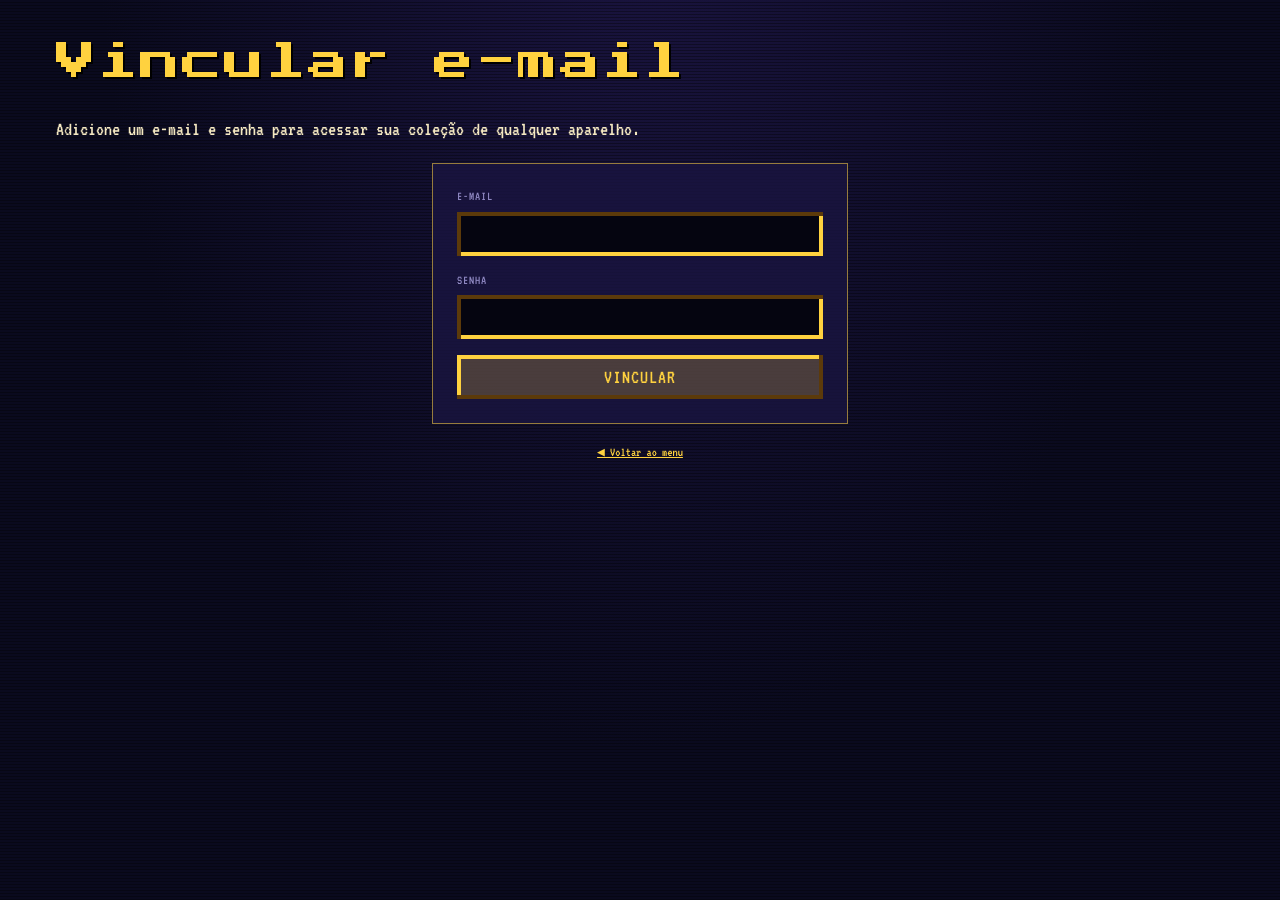
Scenario: LinkEmailForm › links the e-mail immediately when the response is no longer anonymous
Type "player@example.com" into the field labelled "E-mail" at (640, 234), box [457,212,823,256]
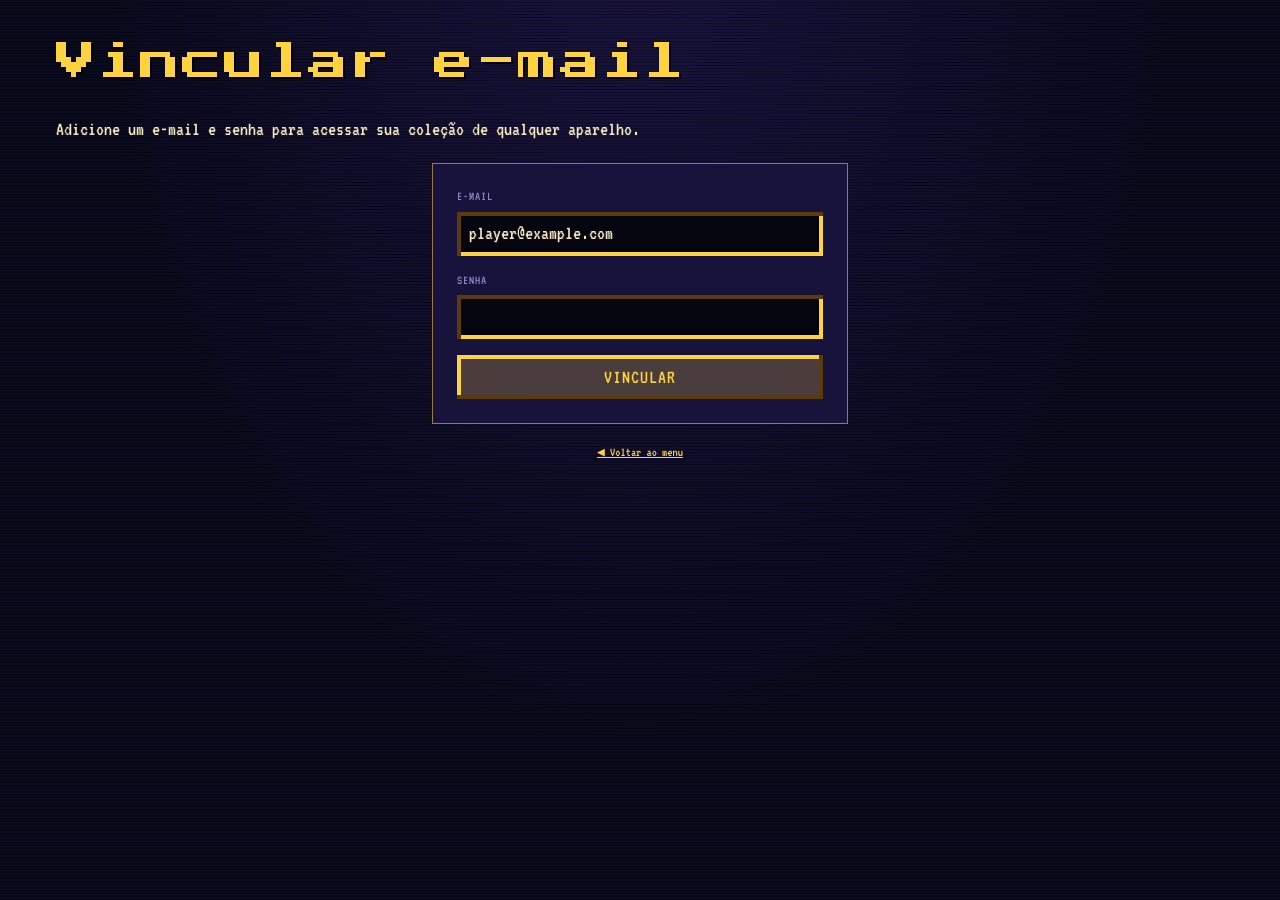
Type "s3nha123" into the password field labelled "Senha" at (640, 317), box [457,295,823,339]
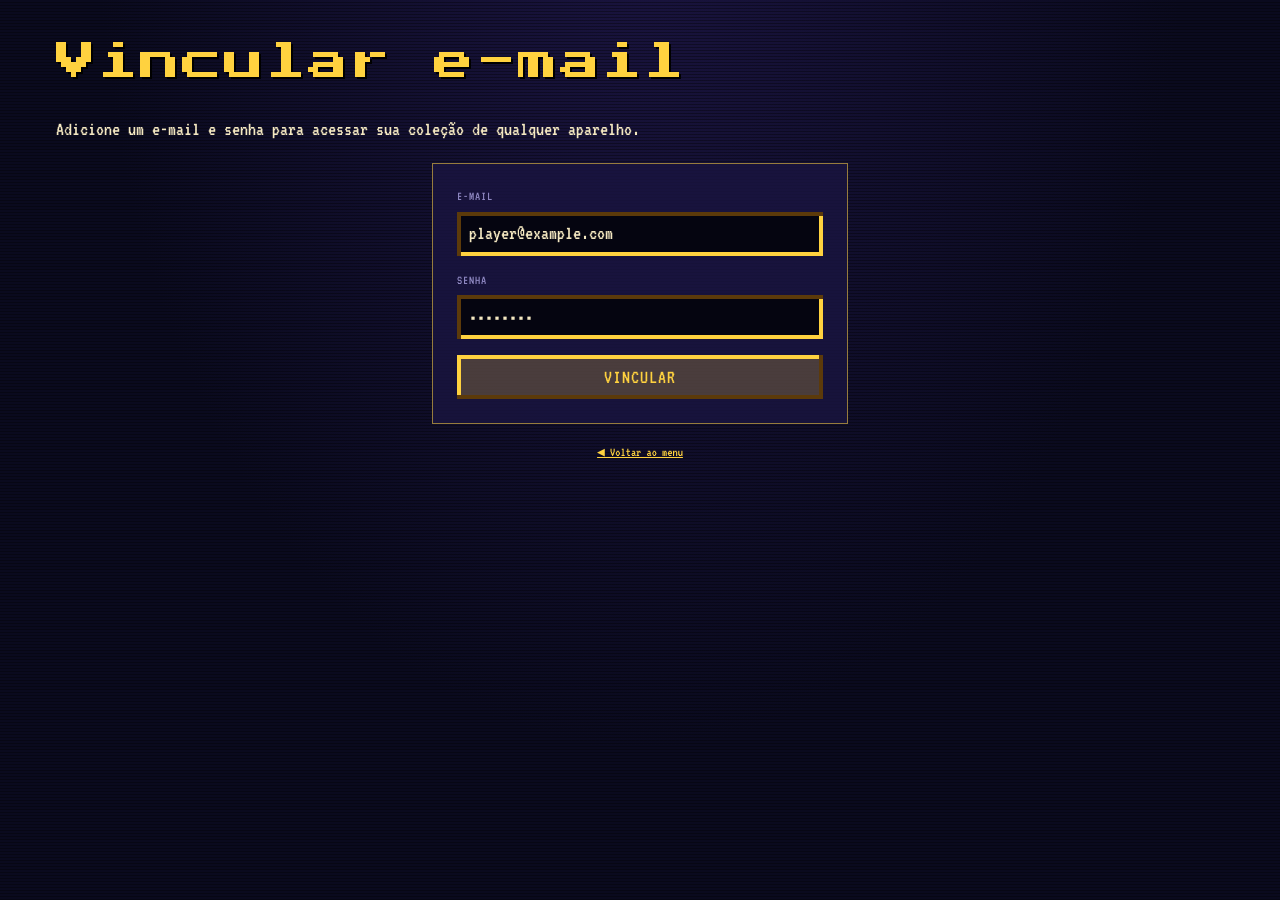
Click the button "Vincular" at (640, 377), box [457,355,823,399]
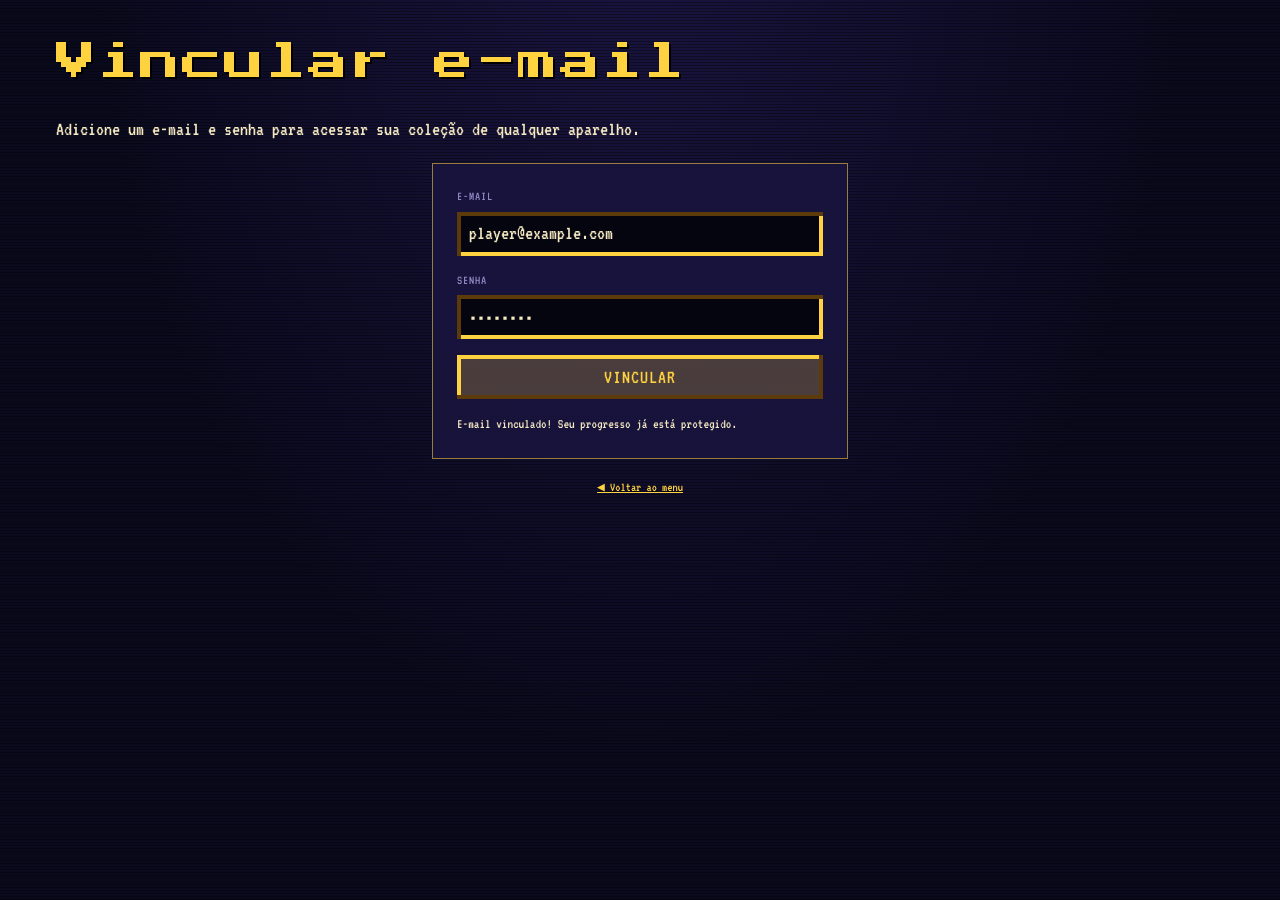
Result: the text "E-mail vinculado! Seu progresso já está protegido." is shown at [457,417,737,431]
